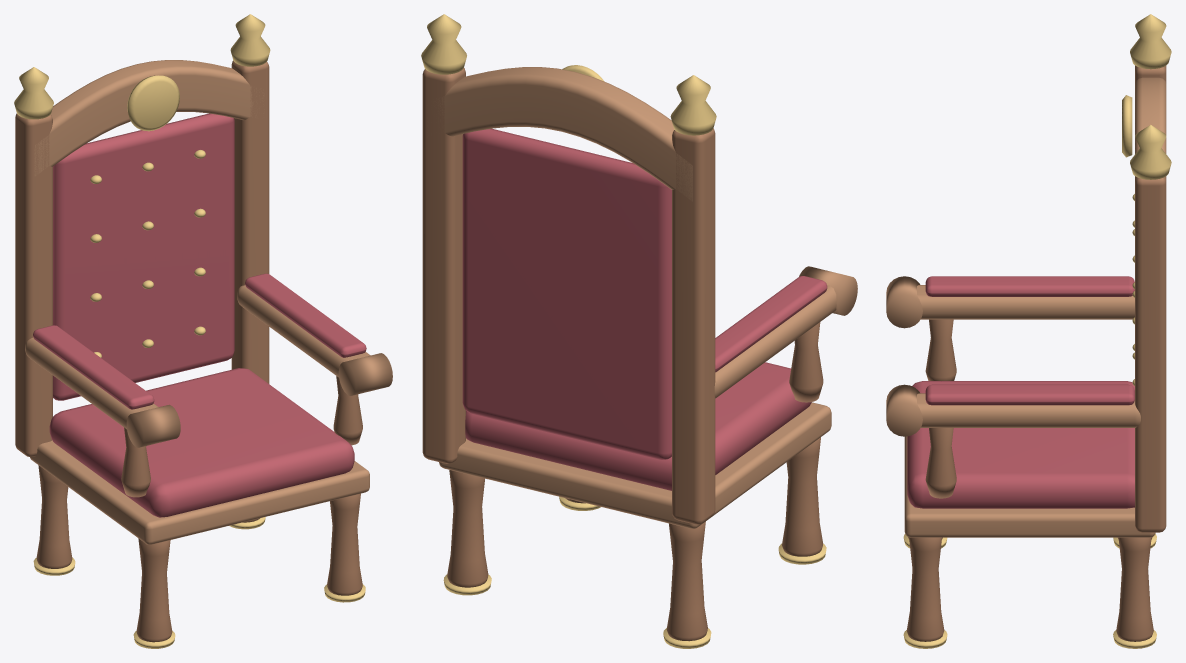
Rendered from judge_chair.glb.
3 views of the same model, side by side, from view 1: azimuth 30°, elevation 25°; view 2: azimuth 150°, elevation 25°; view 3: azimuth 270°, elevation 25° (orthographic). The views are drawn at different scales.
Visible parts, largest first — view 1: back, seat, post-1, crest, post1, seatframe, armpad-1, armpad1, leg-1-1, leg1-1, leg-11, arm1 (+8 smaller); view 2: back, post-1, crest, post1, seatframe, seat, leg-11, leg11, armpad-1, leg-1-1, arm-1, armpost-1 (+3 smaller); view 3: seat, post1, seatframe, arm1, arm-1, armpad1, armpad-1, leg11, leg1-1, armpost1, crest, fin-1 (+5 smaller).
Part boxes in pixels (x1,y1,x2,y2): back: [53, 113, 234, 400]; seat: [49, 368, 354, 517]; post-1: [15, 113, 52, 456]; crest: [34, 60, 264, 176]; post1: [231, 60, 269, 383]; seatframe: [30, 440, 369, 544]; armpad-1: [33, 325, 154, 409]; armpad1: [245, 273, 366, 357]; leg-1-1: [136, 538, 172, 642]; leg1-1: [327, 493, 362, 595]; leg-11: [36, 465, 72, 568]; arm1: [237, 285, 370, 377]; back: [462, 128, 671, 459]; post-1: [672, 128, 715, 524]; crest: [427, 67, 692, 201]; post1: [422, 68, 465, 463]; seatframe: [439, 402, 831, 528]; seat: [465, 362, 811, 490]; leg-11: [666, 521, 707, 641]; leg11: [447, 470, 488, 587]; armpad-1: [715, 276, 827, 372]; leg-1-1: [782, 437, 823, 556]; arm-1: [714, 285, 836, 398]; armpost-1: [789, 322, 823, 402]; seat: [907, 381, 1134, 508]; post1: [1135, 176, 1166, 532]; seatframe: [904, 436, 1155, 537]; arm1: [917, 393, 1140, 427]; arm-1: [917, 285, 1134, 319]; armpad1: [925, 384, 1134, 405]; armpad-1: [925, 276, 1134, 296]; leg11: [1116, 537, 1153, 641]; leg1-1: [906, 537, 944, 641]; armpost1: [925, 428, 956, 498]; crest: [1135, 77, 1166, 153]; fin-1: [1130, 14, 1171, 69].
Size of the model in its own units: 0.58 by 1.1 by 0.545.
